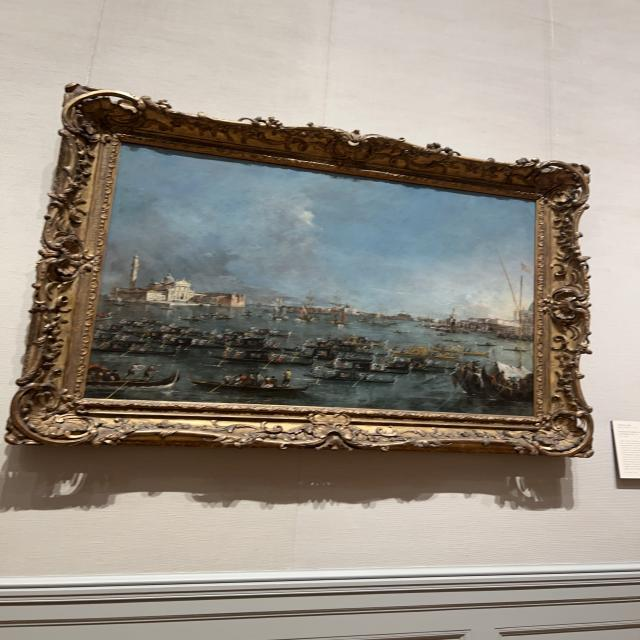ships: (93, 146, 531, 411)
